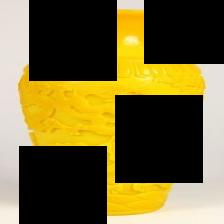yellow: (19, 10, 205, 215)
